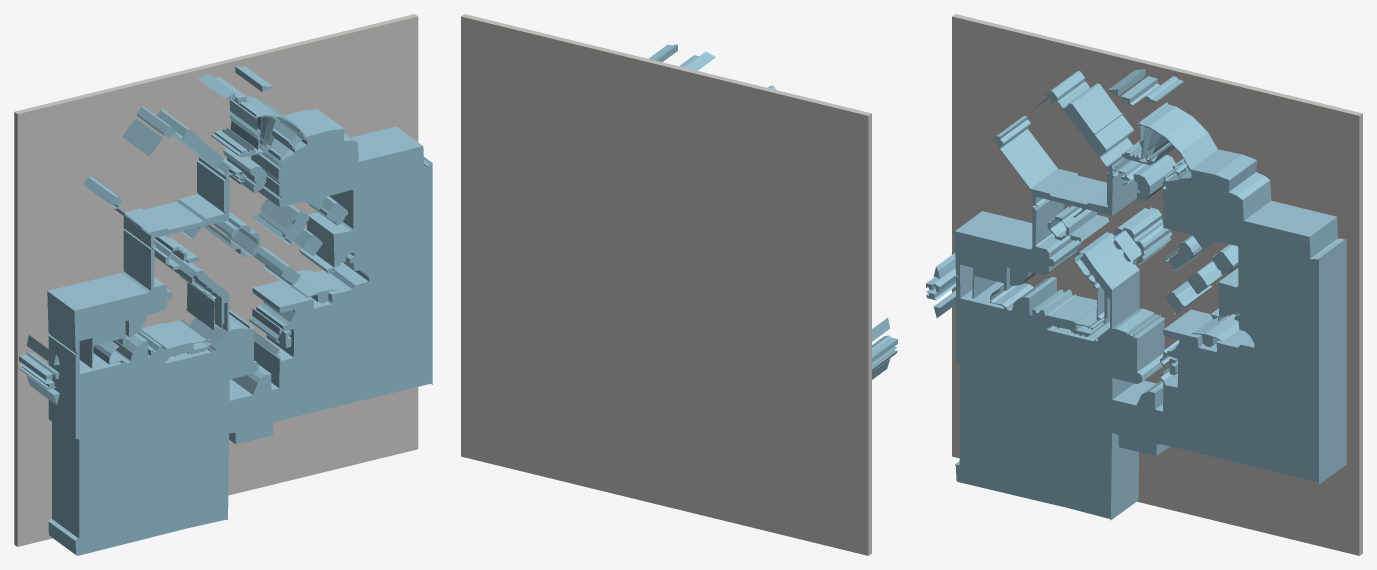
3 views of the same model, side by side, from view 1: azimuth 30°, elevation 25°; view 2: azimuth 150°, elevation 25°; view 3: azimuth 330°, elevation 25° (orthographic).
Parts seen in each view (by area): view 1: world; view 2: world; view 3: world.
Part boxes in pixels (x1=…): world: x1=14, y1=14, x2=432, y2=555; world: x1=461, y1=14, x2=897, y2=555; world: x1=926, y1=14, x2=1362, y2=555.
Bounding box in the file's own units: 10.23 × 10.56 × 1.35.
